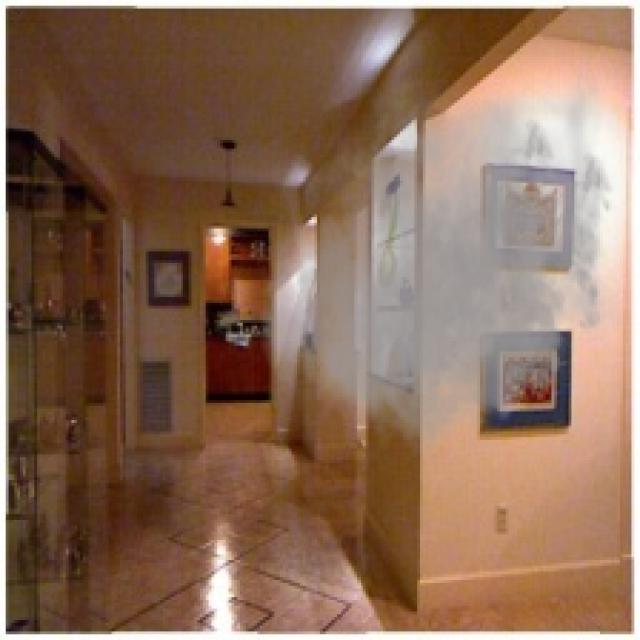smoke: (248, 57, 632, 469)
